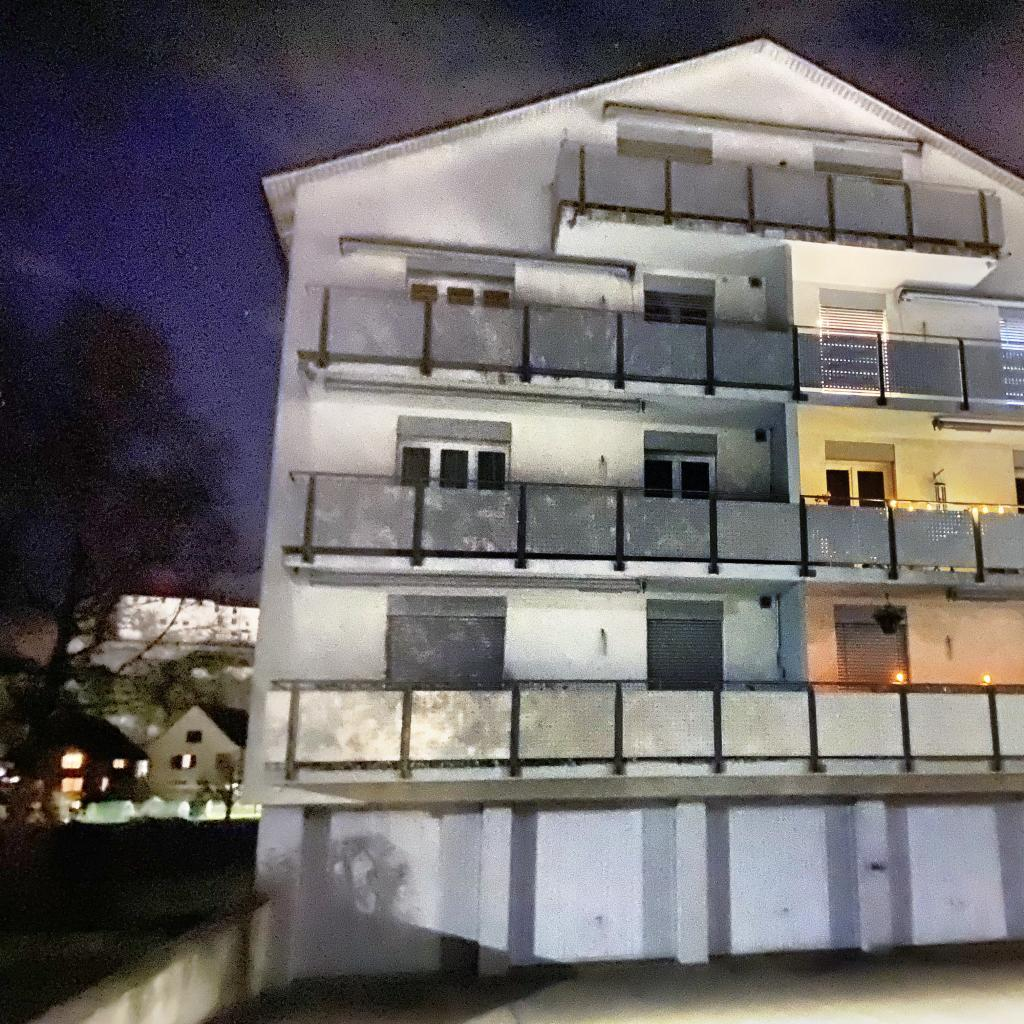balcony-fence: (297, 279, 1024, 425), (280, 469, 1024, 591), (260, 675, 1024, 787), (549, 134, 1008, 266)
facade: (0, 27, 1024, 1000)
non-building-infrastructure: (27, 912, 245, 1024)
street: (207, 941, 1024, 1024)
vegetation: (0, 294, 266, 1024)
window: (386, 613, 507, 681), (647, 618, 723, 689), (399, 442, 509, 490), (835, 621, 908, 690), (644, 453, 715, 498), (408, 278, 511, 308), (617, 137, 712, 164), (826, 465, 888, 506), (645, 294, 709, 324), (821, 308, 885, 337), (814, 160, 903, 179), (1000, 323, 1024, 350), (61, 751, 83, 769), (1015, 474, 1024, 514), (61, 777, 83, 792), (135, 760, 148, 779), (99, 776, 109, 793), (217, 754, 228, 768), (188, 731, 201, 742), (112, 759, 125, 768), (182, 755, 190, 768)
